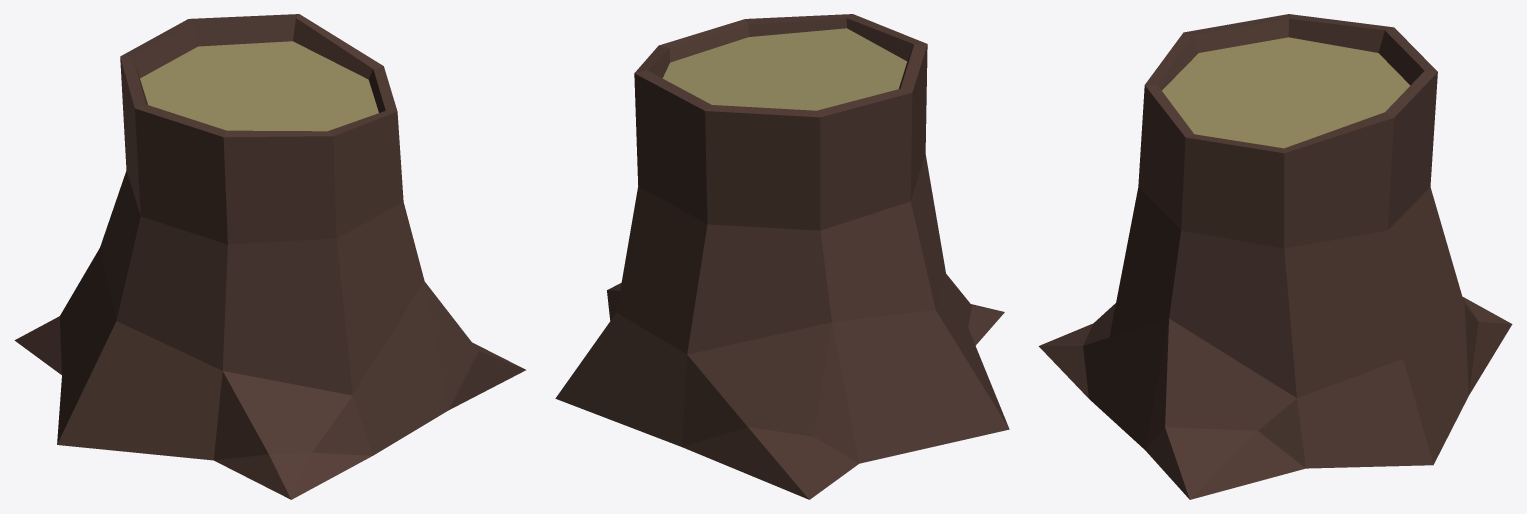
The model's file is stump_2.obj.
3 views of the same model, side by side, from view 1: azimuth 30°, elevation 25°; view 2: azimuth 150°, elevation 25°; view 3: azimuth 270°, elevation 25° (orthographic). The views are drawn at different scales.
Visible parts, largest first — view 1: stump_2_Cylinder.006; view 2: stump_2_Cylinder.006; view 3: stump_2_Cylinder.006.
Part boxes in pixels (x1,y1,x2,y2): stump_2_Cylinder.006: [14, 14, 525, 499]; stump_2_Cylinder.006: [555, 14, 1009, 499]; stump_2_Cylinder.006: [1038, 14, 1512, 499].
Bounding box in the file's own units: 0.6882 × 0.4842 × 0.6467.
Materials: 1 (1 with a texture image).
